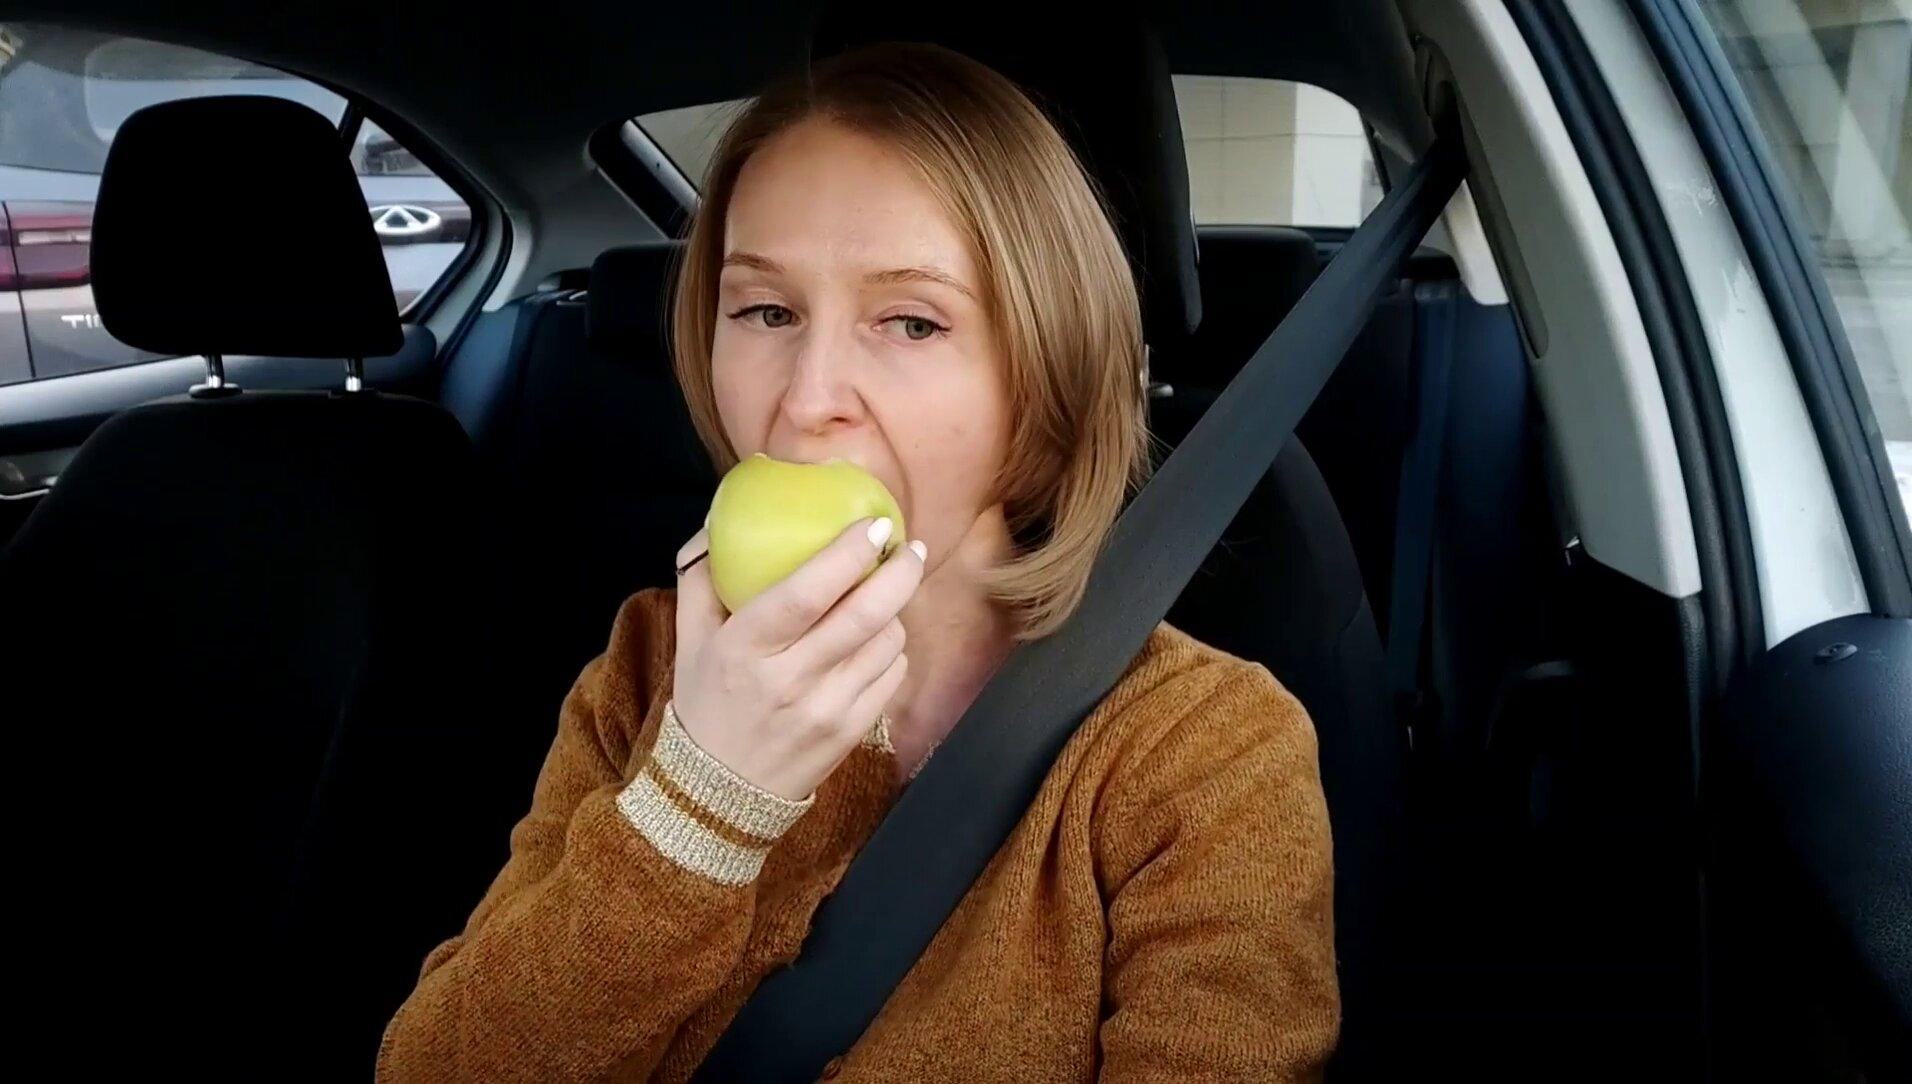Eating: (696, 439, 919, 629)
